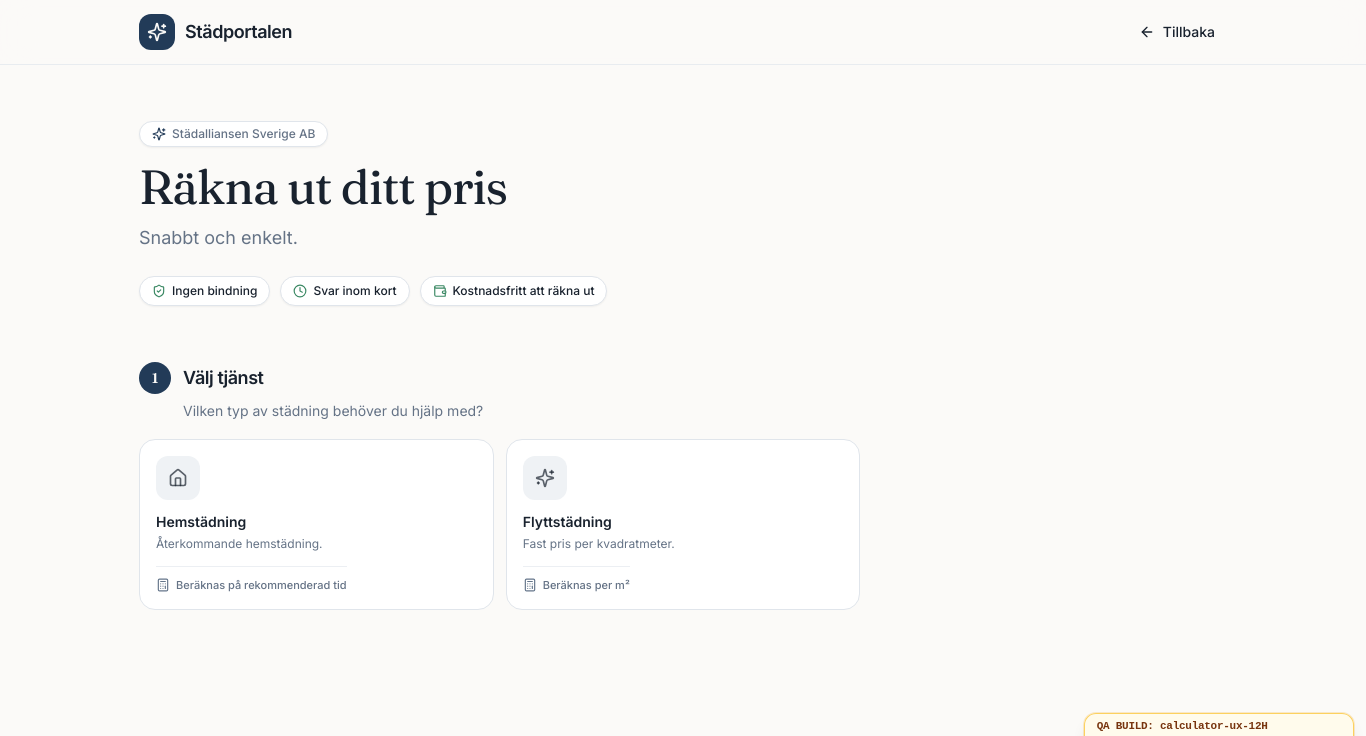
Scenario: PriceCalculator — selectable generic sqm_fixed service (GPM-9) › entering m² calculates through the existing server path (serviceKey + sqm + active plan)
The image size is (1366, 736).
Click the button "Flyttstädning Fast pris per kvadratmeter. Beräknas per m²". click: click(545, 478)
box: [506,439,860,610]
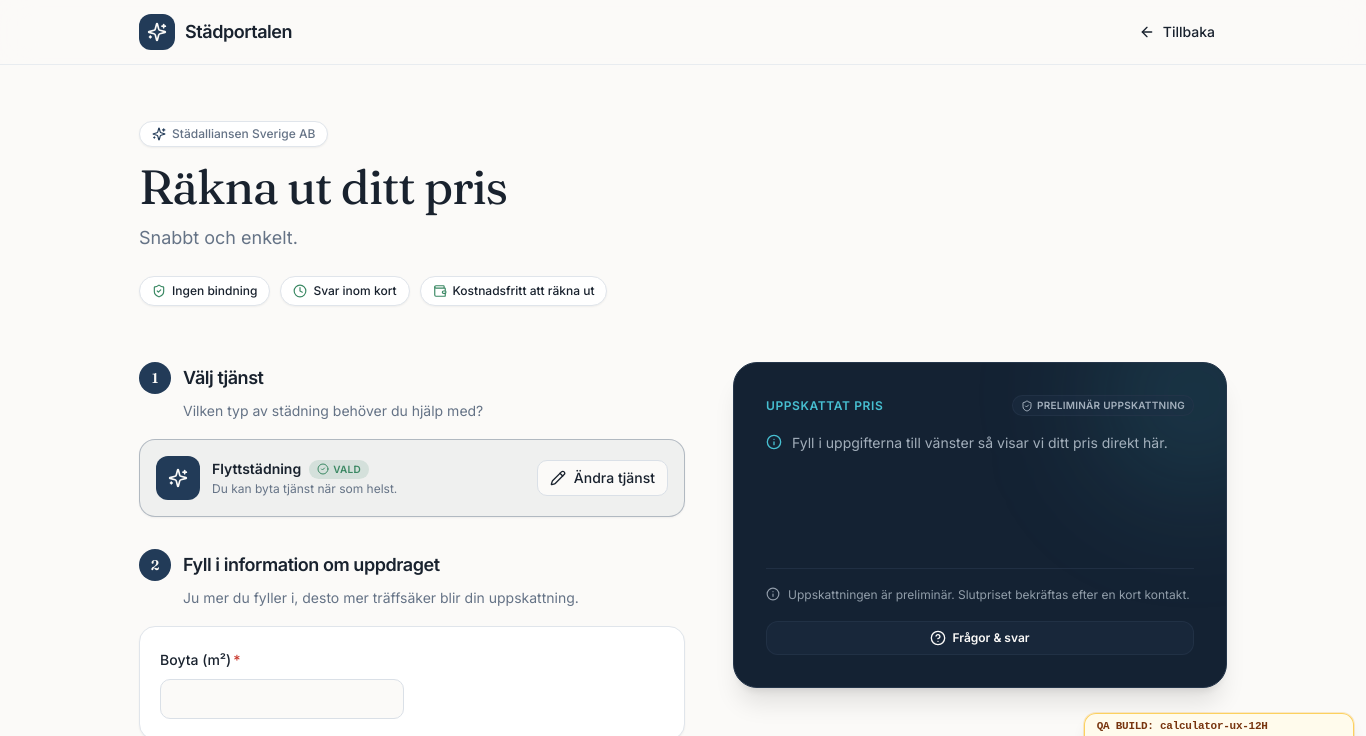
Type "80" into the number field labelled "Boyta (m²)*". click: (282, 699)
box: [160,679,404,719]
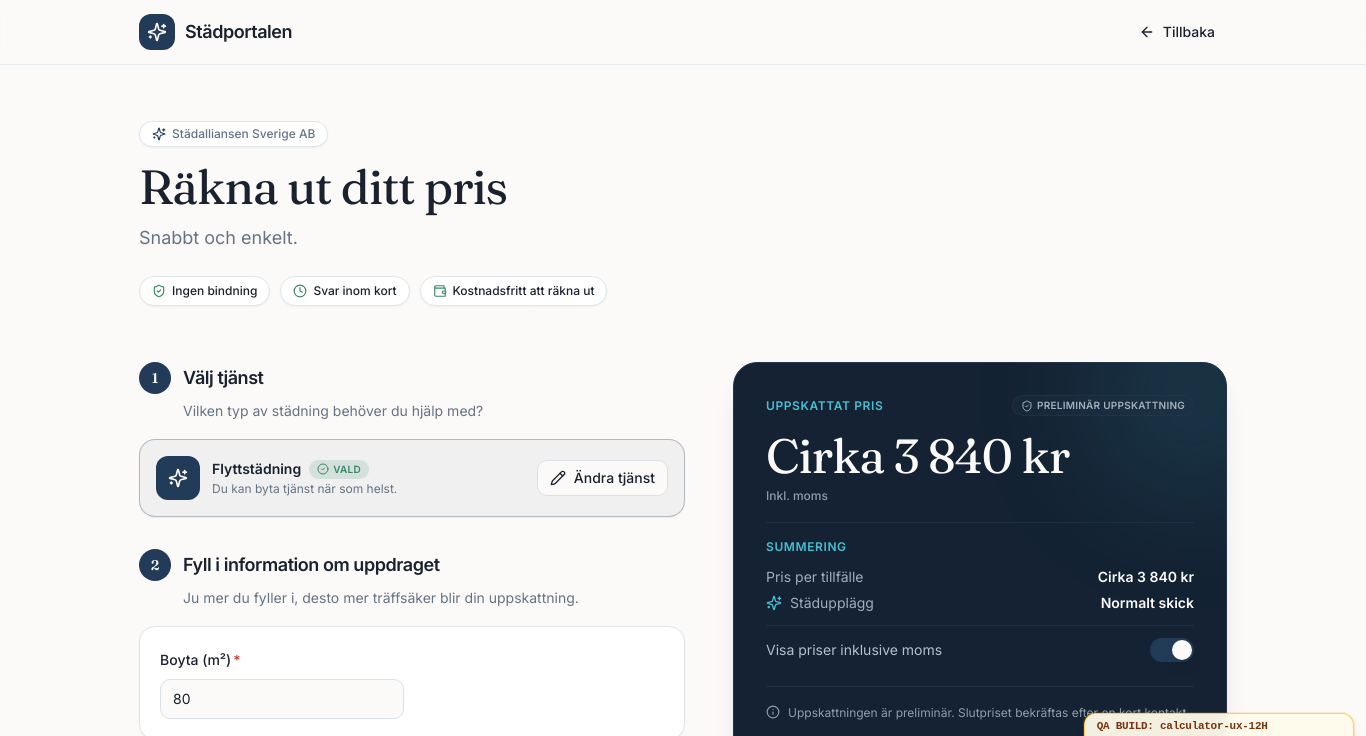
Check: the 1st text "Cirka 3 840 kr" is shown, box [766,426,1069,485]
